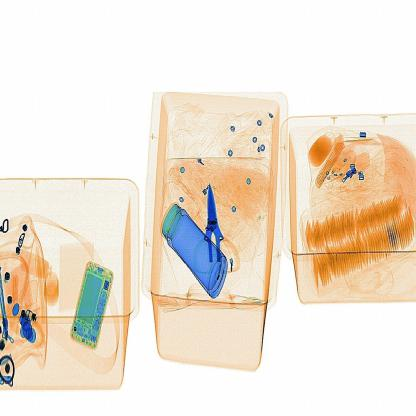gun: (185, 170, 243, 286)
